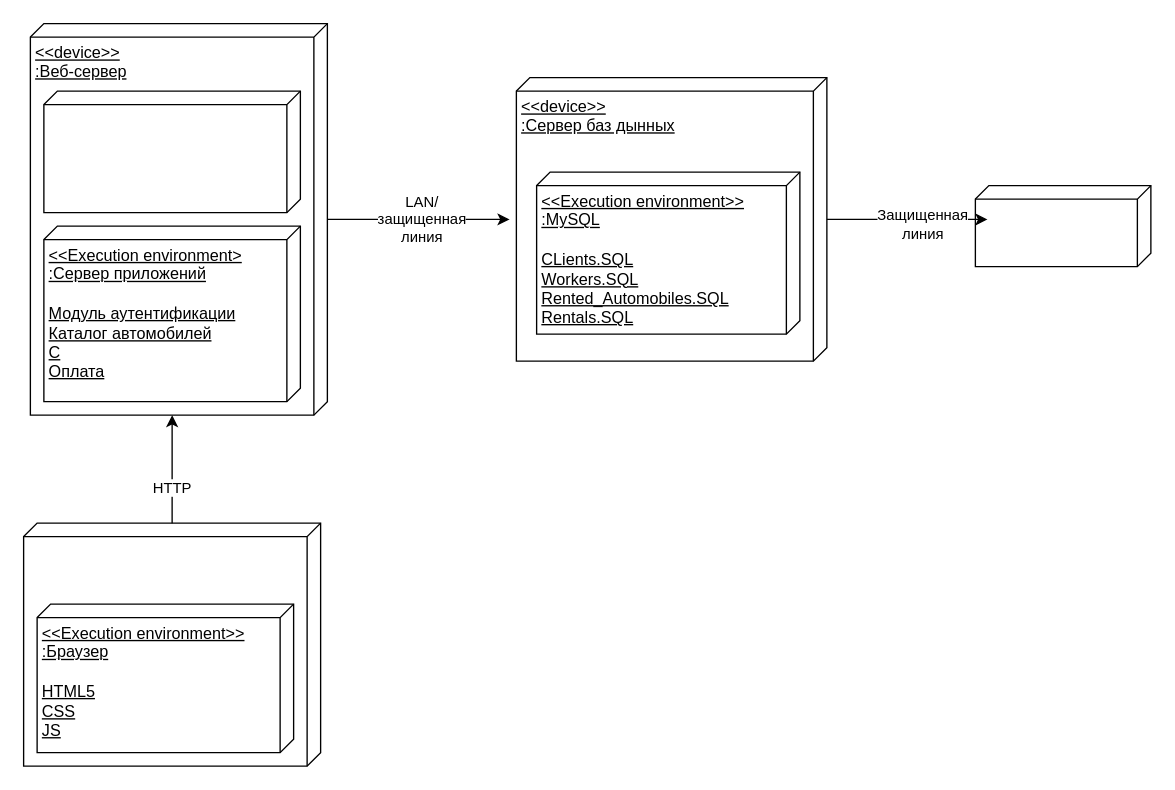
This 1175x790 diagram has some shape labels left out. Each missing label, with the box of its shape:
<<Device>> АРМ продавца: (974, 184, 1151, 267)
<<device>> Устройство пользователя: (22, 522, 321, 766)
<<Execution environment>>: nginx Обработчик запросов Передатчик данных: (43, 90, 300, 213)
